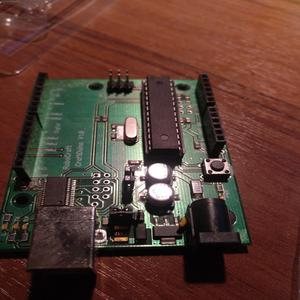duino: (0, 51, 253, 276)
